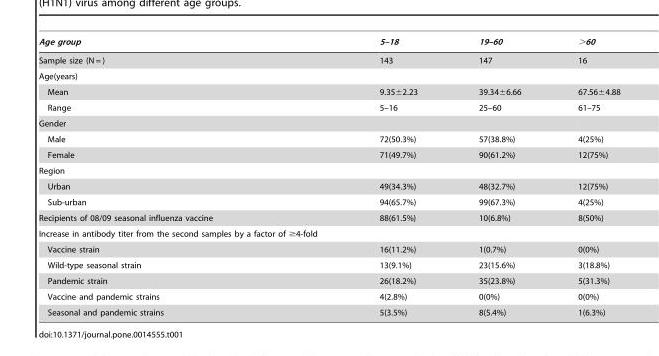table: (37, 36, 619, 316)
table column: (37, 36, 347, 316), (447, 36, 548, 316), (347, 36, 447, 316), (548, 36, 619, 316)
table column header: (37, 36, 619, 50)
table projected row header: (37, 115, 619, 131), (37, 162, 619, 178), (37, 225, 619, 241), (37, 68, 619, 83)
table row: (37, 50, 619, 68), (37, 83, 619, 99), (37, 99, 619, 115), (37, 115, 619, 131), (37, 146, 619, 162), (37, 162, 619, 178), (37, 178, 619, 194), (37, 209, 619, 225), (37, 225, 619, 241), (37, 241, 619, 257), (37, 272, 619, 288), (37, 288, 619, 304), (37, 68, 619, 83), (37, 131, 619, 146), (37, 194, 619, 209), (37, 257, 619, 272), (37, 36, 619, 50), (37, 304, 619, 316)
